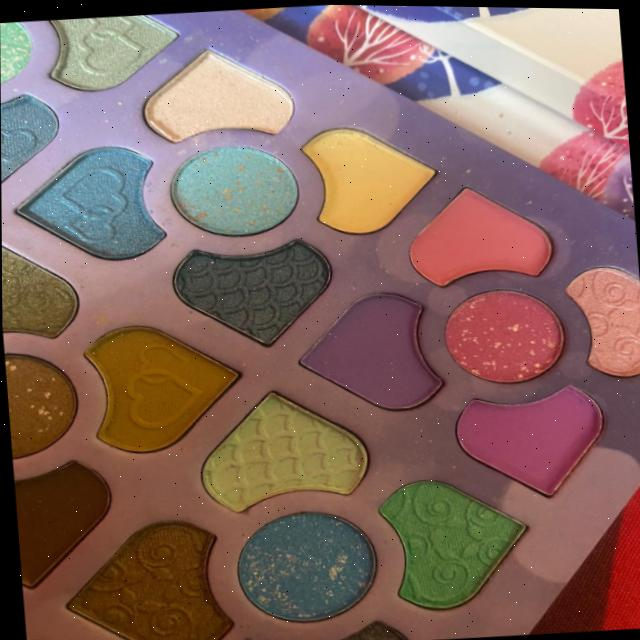eye shade: (186, 371, 390, 525), (63, 305, 260, 462), (51, 507, 252, 640), (371, 463, 541, 620), (284, 282, 449, 428), (292, 107, 457, 249), (3, 134, 176, 265), (167, 233, 347, 358), (442, 381, 624, 504), (221, 502, 384, 634), (388, 174, 562, 294), (140, 28, 301, 152), (431, 272, 579, 393), (165, 135, 304, 250), (39, 9, 196, 101), (3, 342, 97, 468), (559, 250, 640, 383)
